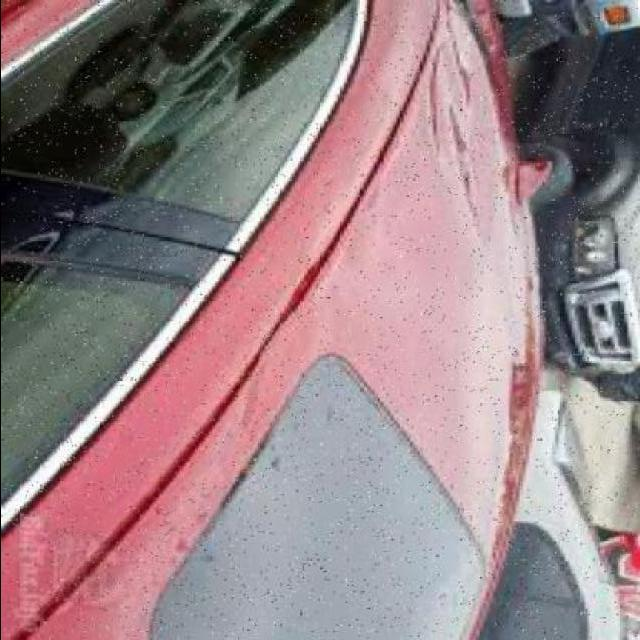roof-dent: (264, 0, 528, 381)
